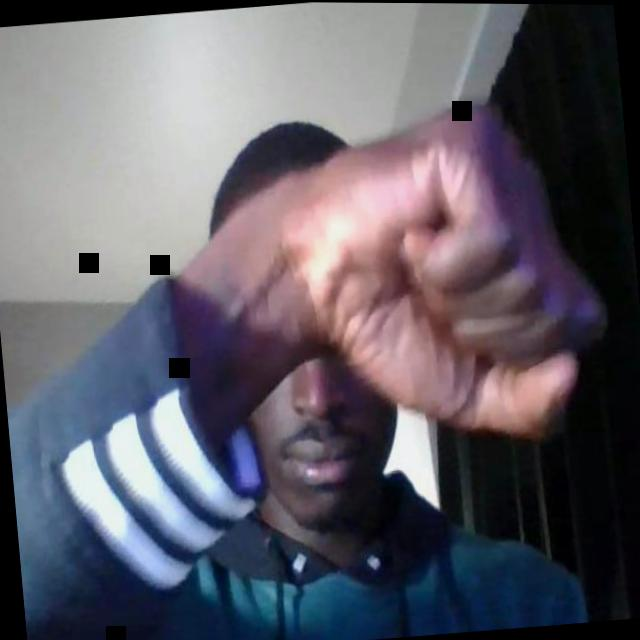NO-Mask: (243, 344, 404, 542)
